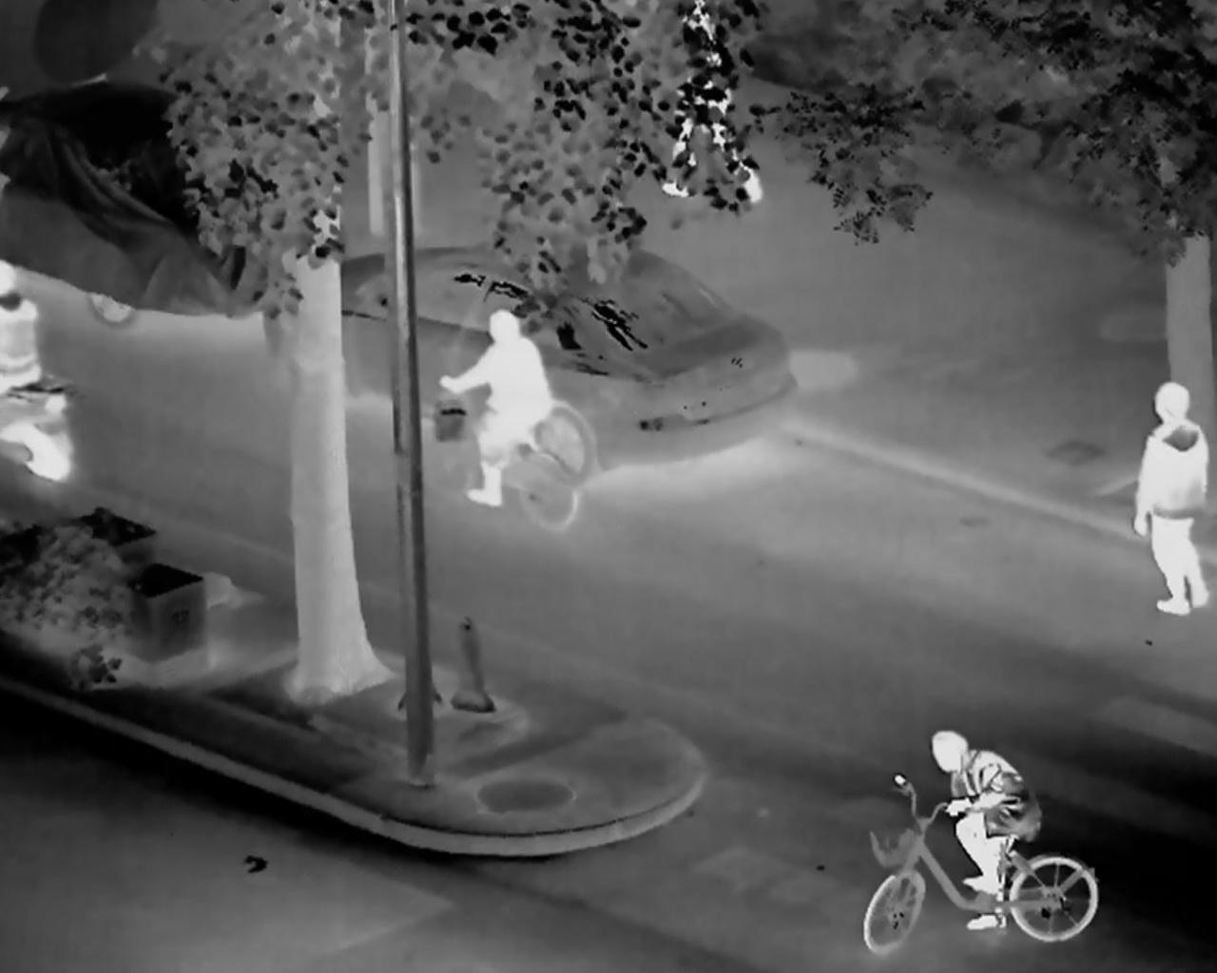person: (927, 728, 1042, 927), (440, 310, 550, 505), (1133, 380, 1208, 616)
